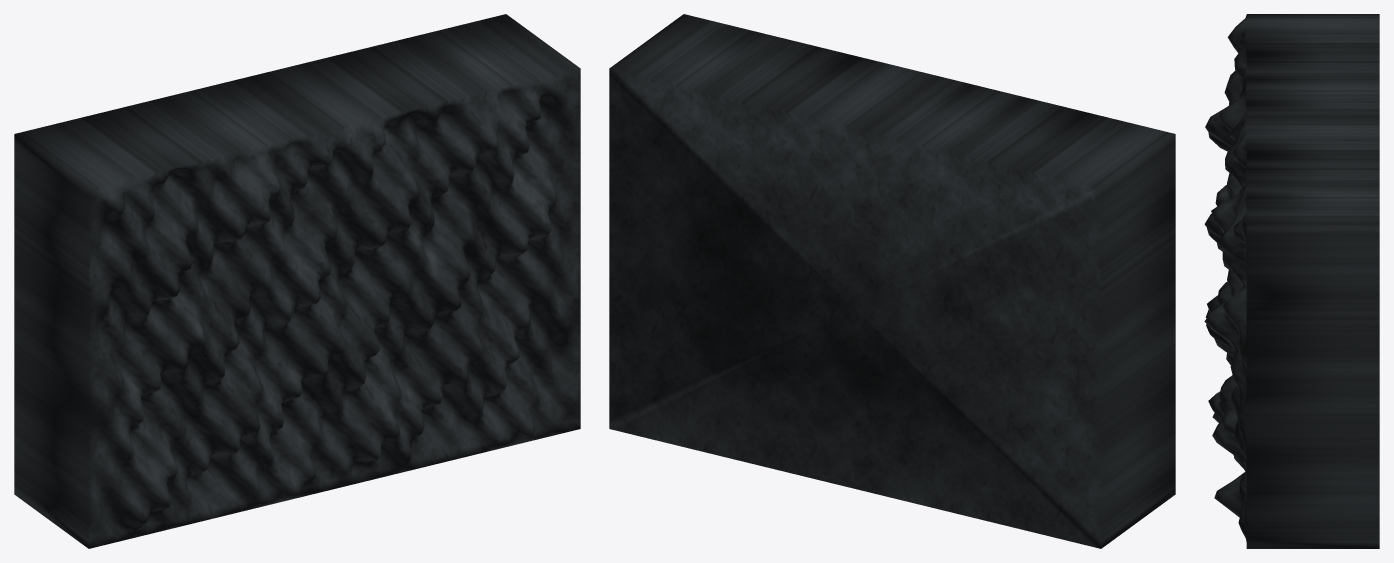
Rendered from PROJECT_Z_VR26_01_Basalt_Cliff_4m.glb.
3 renders of one model, left to right at view 1: azimuth 30°, elevation 25°; view 2: azimuth 150°, elevation 25°; view 3: azimuth 270°, elevation 25°, orthographic. The views are drawn at different scales.
Visible parts, largest first — view 1: 01_Basalt_Cliff_4m__RENDER_Cliff_Face_4x2p8; view 2: 01_Basalt_Cliff_4m__RENDER_Cliff_Face_4x2p8; view 3: 01_Basalt_Cliff_4m__RENDER_Cliff_Face_4x2p8.
Part boxes in pixels (<box>): 01_Basalt_Cliff_4m__RENDER_Cliff_Face_4x2p8: <box>14,14,580,548</box>; 01_Basalt_Cliff_4m__RENDER_Cliff_Face_4x2p8: <box>609,14,1175,548</box>; 01_Basalt_Cliff_4m__RENDER_Cliff_Face_4x2p8: <box>1204,14,1379,548</box>.
Size of the model in its own units: 4 by 2.8 by 1.39.
Materials: 1 (1 with a texture image).
